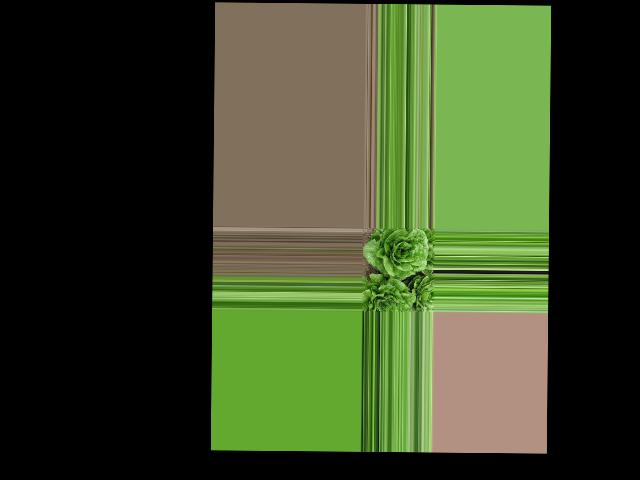lettuce: (363, 278, 416, 313)
